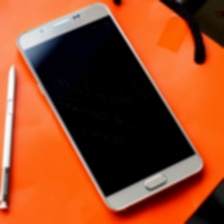phone: (15, 0, 207, 216)
